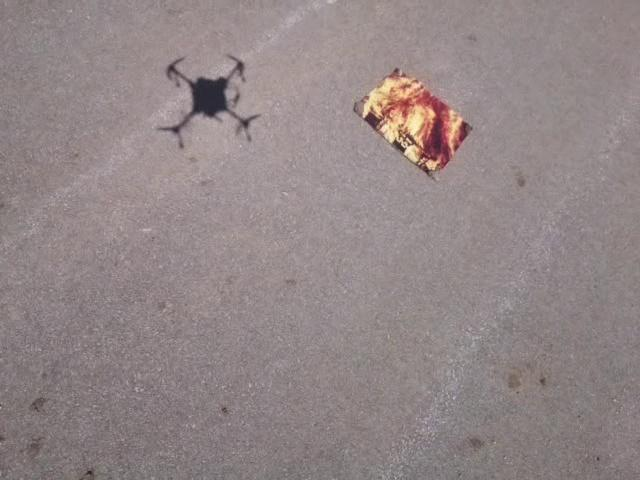fire-poster: (351, 65, 474, 182)
